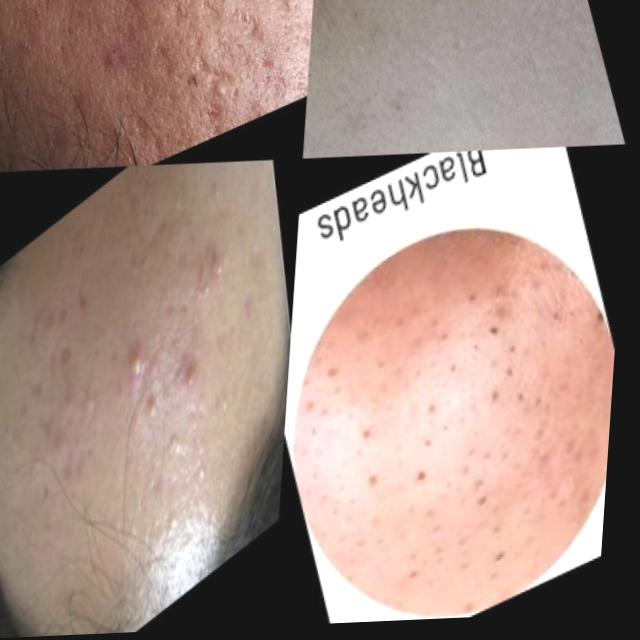8: (60, 0, 177, 47)
9: (119, 319, 163, 395), (177, 349, 218, 408)
blackheads: (137, 28, 195, 94), (216, 0, 275, 58), (49, 316, 82, 396), (199, 216, 229, 296), (72, 262, 102, 331), (25, 351, 56, 412), (260, 0, 308, 29)
dark spot: (474, 348, 547, 439), (445, 465, 527, 541), (411, 300, 466, 361), (352, 462, 401, 511), (490, 540, 533, 594), (413, 454, 453, 509), (351, 406, 394, 455), (481, 302, 519, 357), (416, 383, 455, 432)
